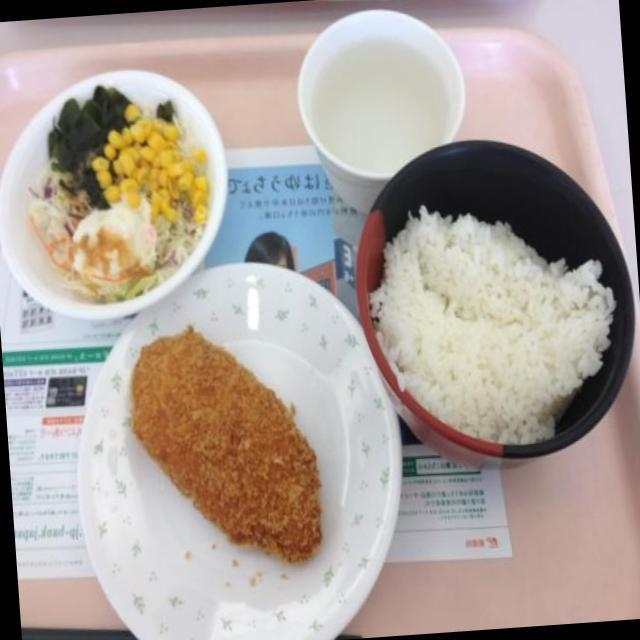Rice: (372, 186, 597, 436)
